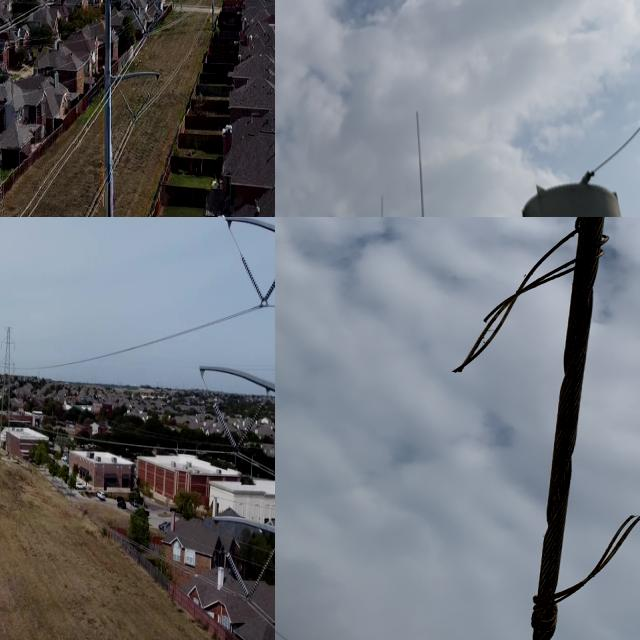杆塔: (0, 320, 20, 438)
正常绝缘子: (242, 547, 275, 607), (233, 401, 266, 455), (210, 400, 241, 454), (239, 253, 268, 308), (224, 549, 252, 605), (258, 275, 275, 309)
电缆破损: (422, 217, 640, 396), (476, 489, 640, 627)
